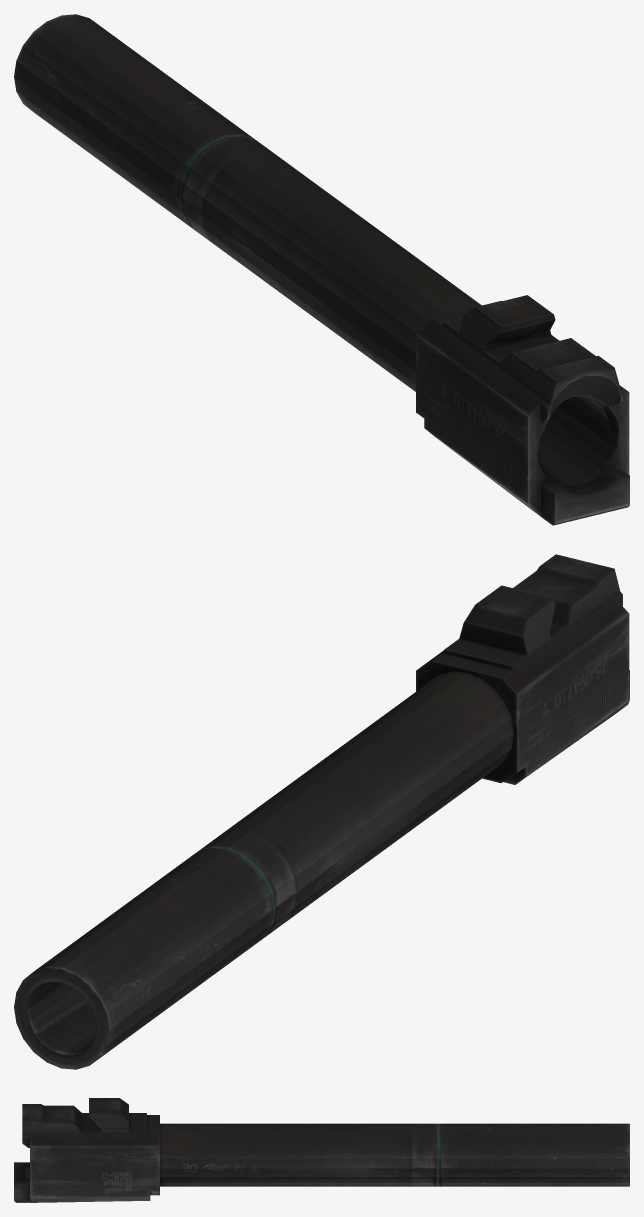
3 views of the same model, one above another, from view 1: azimuth 30°, elevation 25°; view 2: azimuth 150°, elevation 25°; view 3: azimuth 270°, elevation 25° (orthographic). The views are drawn at different scales.
Visible parts, largest first — view 1: TW_6194f02d9bb3d20b0946d2f0_PZ_Import; view 2: TW_6194f02d9bb3d20b0946d2f0_PZ_Import; view 3: TW_6194f02d9bb3d20b0946d2f0_PZ_Import.
Part boxes in pixels (bbox=[...]): TW_6194f02d9bb3d20b0946d2f0_PZ_Import: bbox=[14, 14, 629, 525]; TW_6194f02d9bb3d20b0946d2f0_PZ_Import: bbox=[14, 554, 629, 1069]; TW_6194f02d9bb3d20b0946d2f0_PZ_Import: bbox=[14, 1098, 629, 1202].
Size of the model in its own units: 0.00973 by 0.0884 by 0.0138.
Materials: 1 (1 with a texture image).
